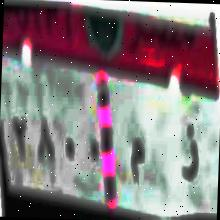0: (60, 128, 78, 165), (86, 132, 100, 173)
2: (10, 110, 30, 174)
8: (35, 112, 58, 170)
meem: (124, 128, 148, 190)
zay: (176, 120, 202, 190)
